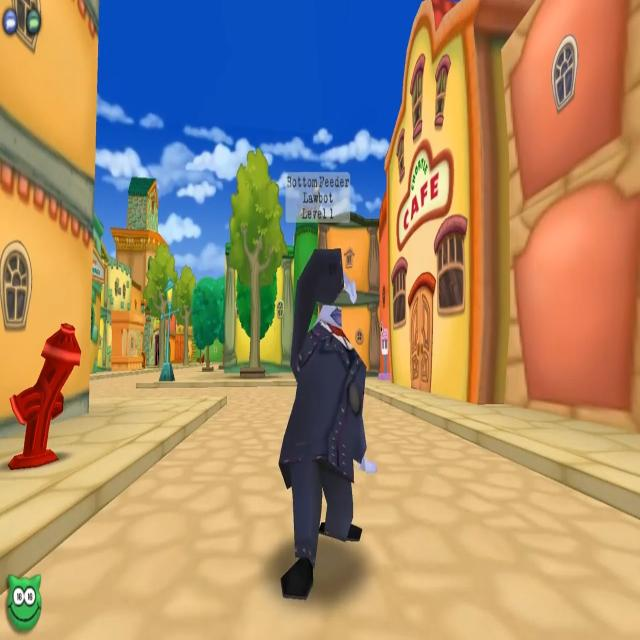bottomfeeder: (275, 170, 367, 607)
